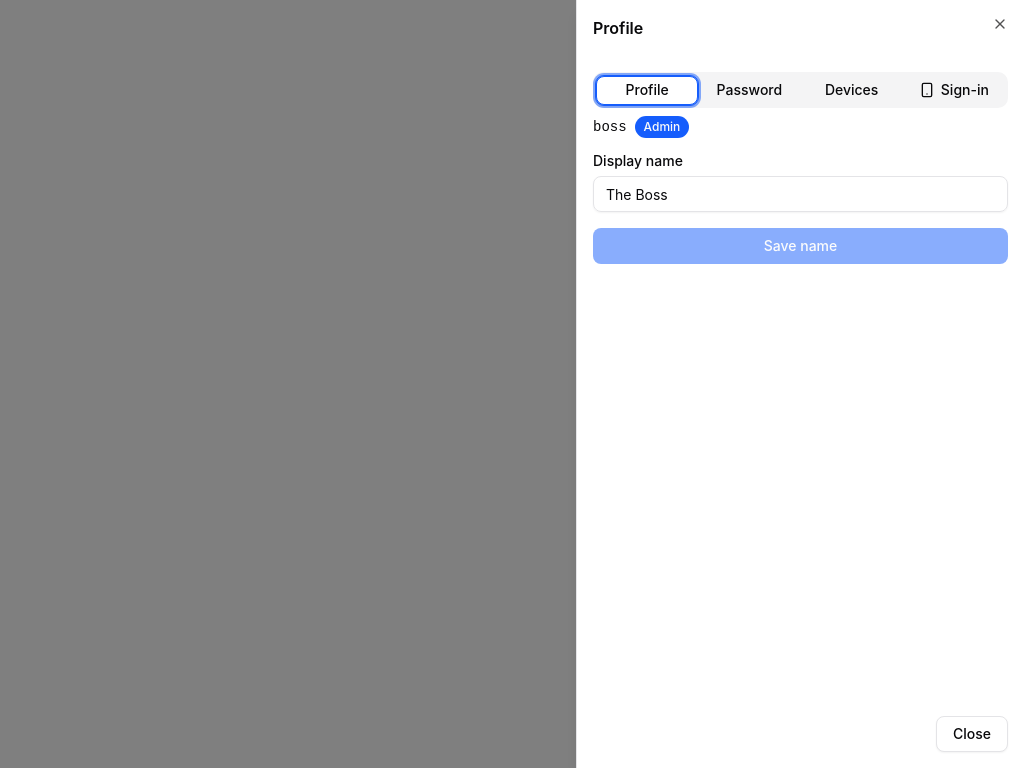
Test case: ProfileSheet › the display name › needs no current password
The image size is (1024, 768).
Replace the text in the field labelled "Display name" with "The Boss Jr" at {"x": 800, "y": 194}, box x1=593 y1=176 x2=1008 y2=212
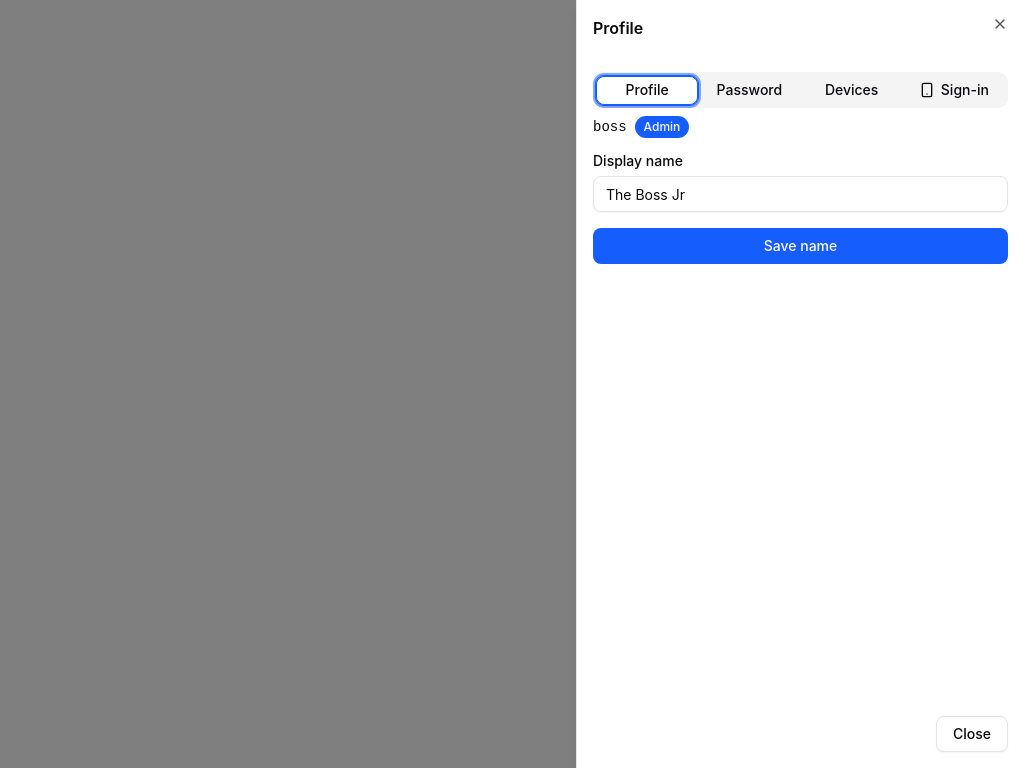
Result: the button "Save name" is enabled at x1=593 y1=228 x2=1008 y2=264
